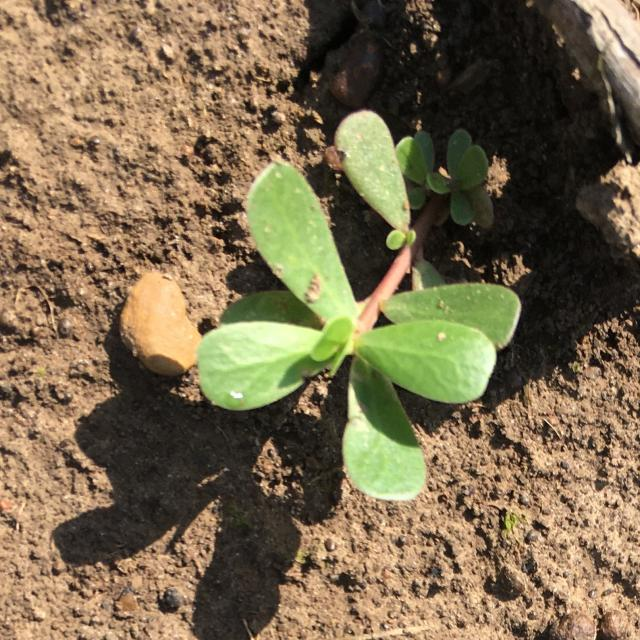Purslane: (197, 111, 521, 501)
